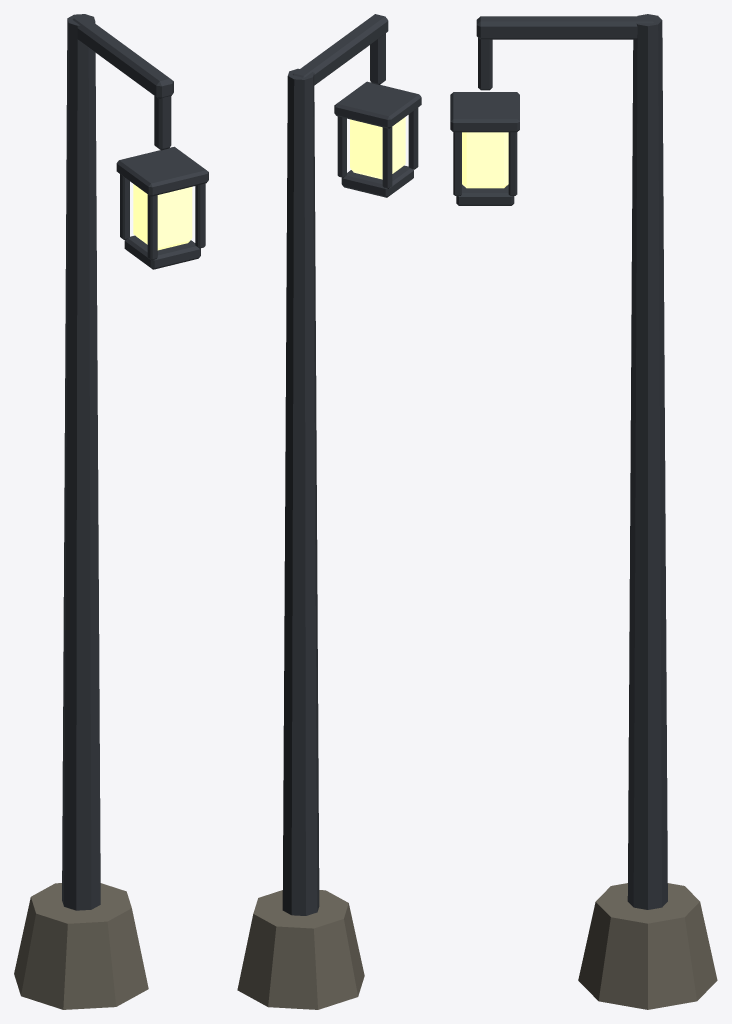
The model's file is prp_lamp_post.glb.
3 views of the same model, side by side, from view 1: azimuth 30°, elevation 25°; view 2: azimuth 150°, elevation 25°; view 3: azimuth 270°, elevation 25° (orthographic). The views are drawn at different scales.
Visible parts, largest first — view 1: prp_lamp_post; view 2: prp_lamp_post; view 3: prp_lamp_post.
Part boxes in pixels (left/top/right/bottom): prp_lamp_post: left=14, top=14, right=208, bottom=1009; prp_lamp_post: left=237, top=14, right=421, bottom=1009; prp_lamp_post: left=450, top=14, right=717, bottom=1009.
Size of the model in its own units: 0.48 by 3.66 by 0.92.
